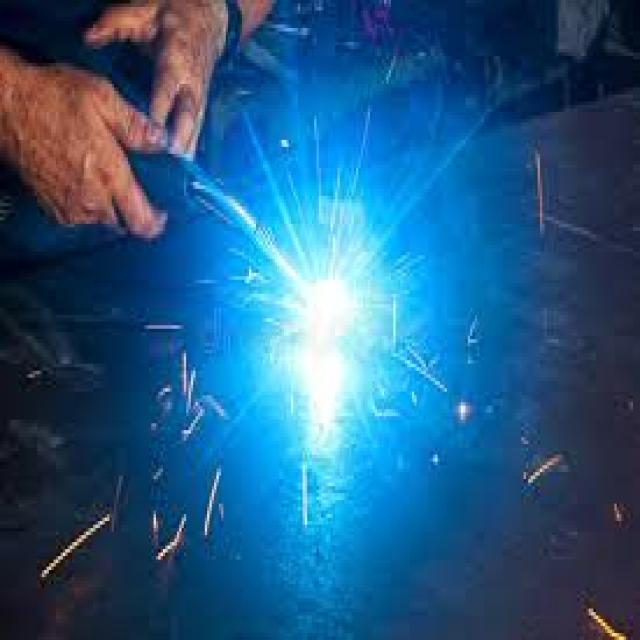welding: (307, 276, 352, 406)
